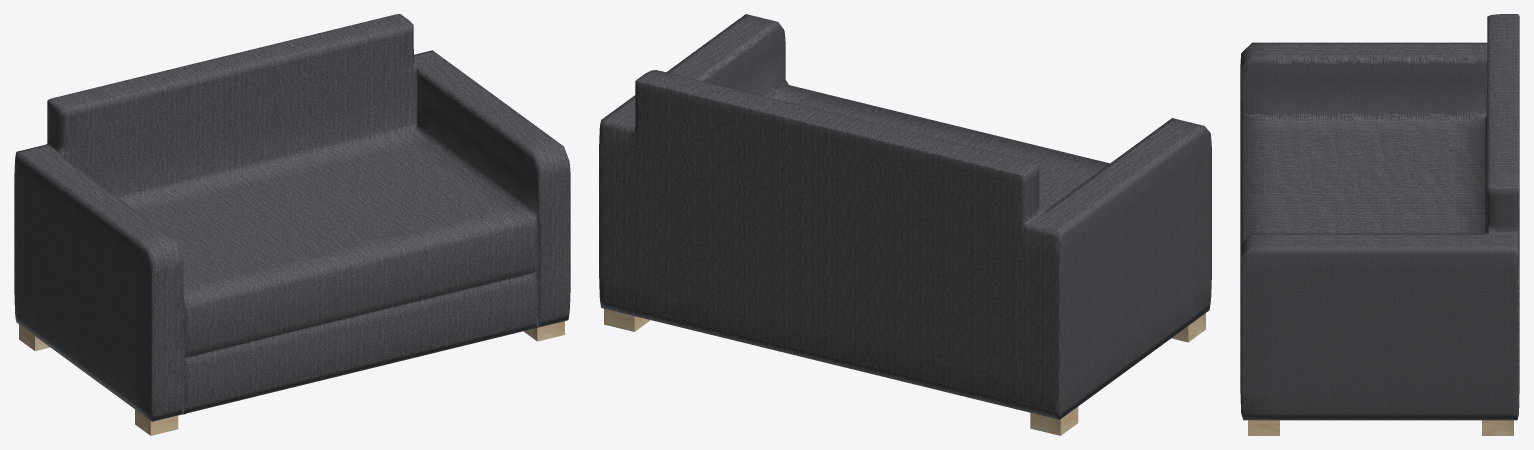
The model's file is Solsta_2_Seats_Sofa-3D.DAE.
3 renders of one model, left to right at view 1: azimuth 30°, elevation 25°; view 2: azimuth 150°, elevation 25°; view 3: azimuth 270°, elevation 25°, orthographic. The views are drawn at different scales.
Parts seen in each view (by area): view 1: Box03, ____001; view 2: Box03, ____001; view 3: Box03, ____001.
Boxes of the visible parts, x1,y1,x2,y2 form: Box03: (14,14,570,421); ____001: (19,321,564,435); Box03: (599,14,1211,419); ____001: (604,308,1205,435); Box03: (1240,14,1519,420); ____001: (1248,420,1513,435).
Size of the model in its own units: 1366 by 720 by 780.
